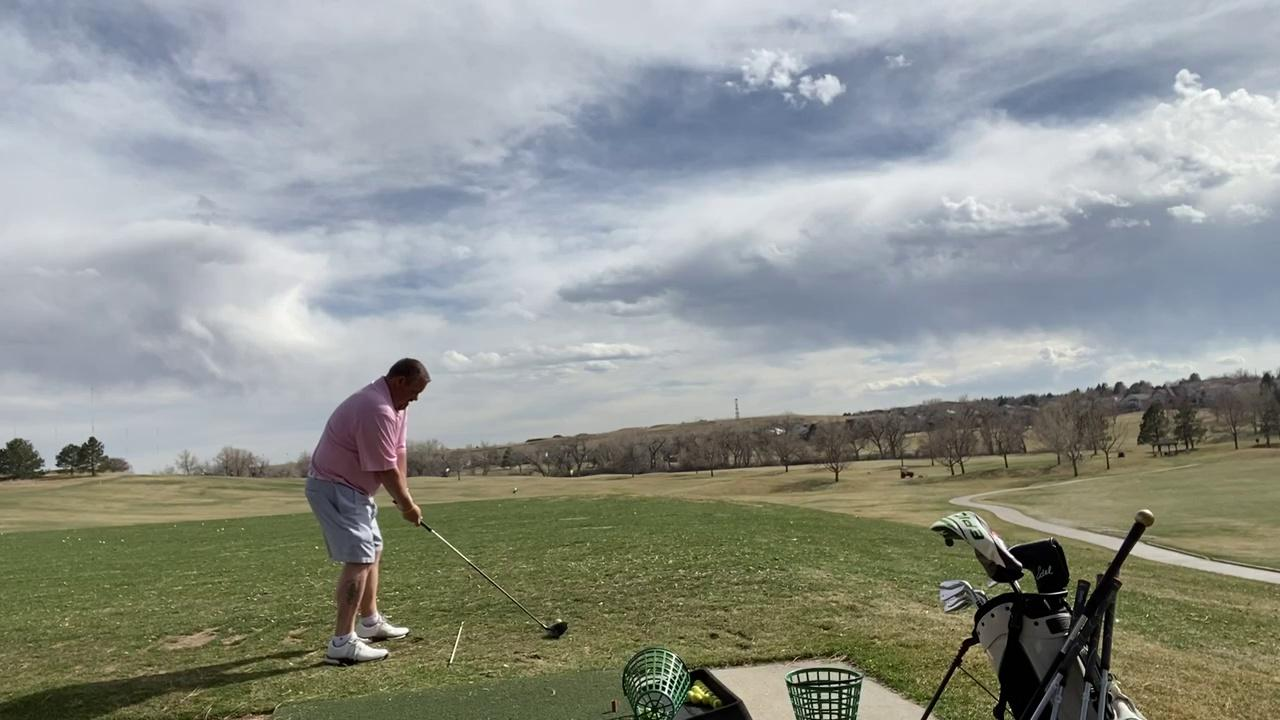ClubHead: (536, 617, 575, 645)
